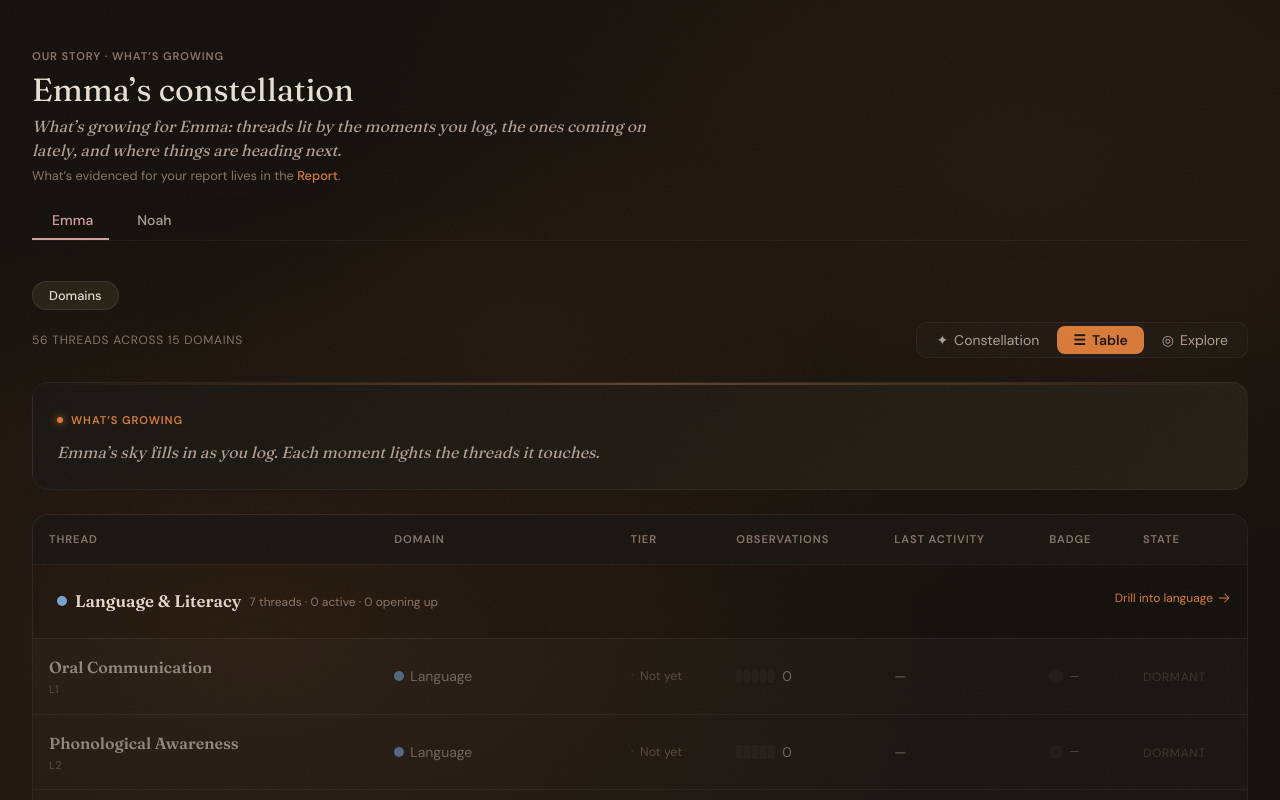
Scenario: ConstellationRoute › view toggle › switches between table / constellation / explore
The width and height of the screenshot is (1280, 800).
Expected: the element named "View mode" is shown, [916, 322, 1248, 358]
Click the radio button labelled "✦ Constellation". click: (988, 340)
box: [920, 326, 1055, 354]
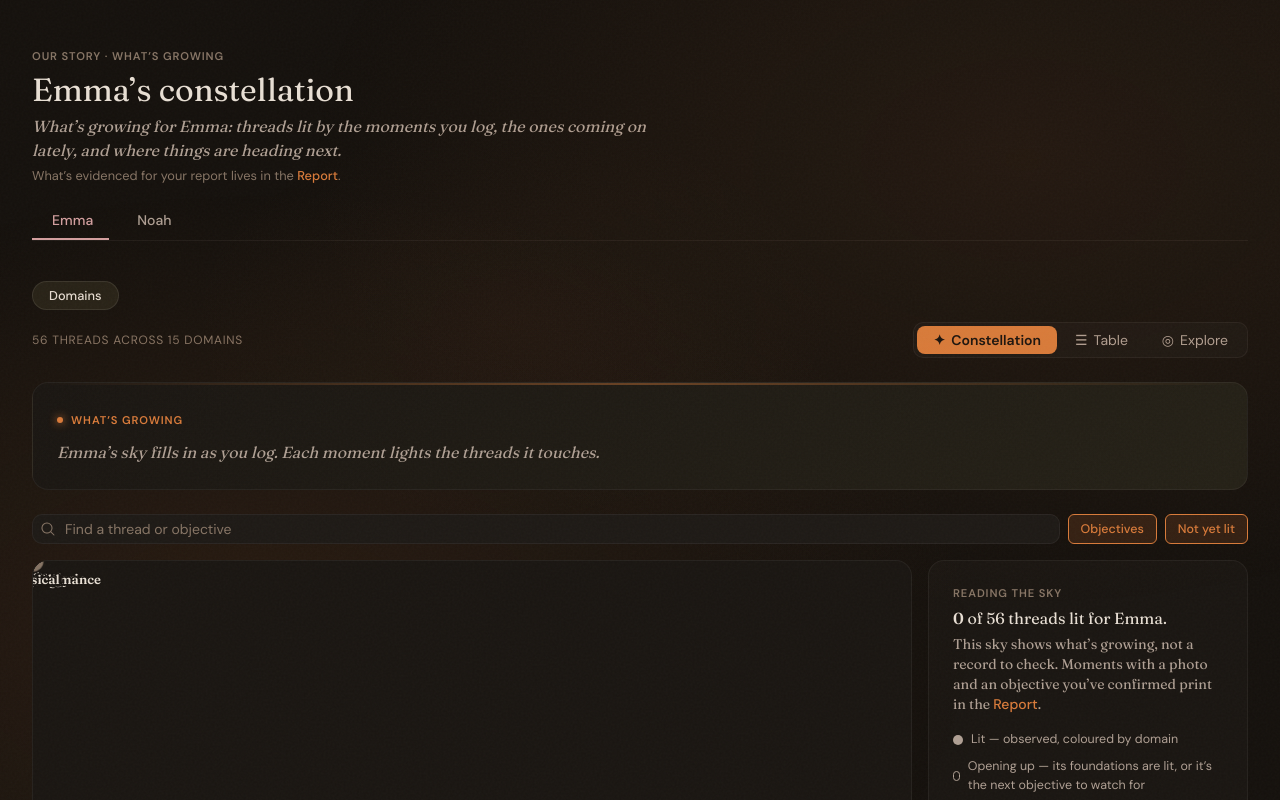
Expected: the radio button labelled "✦ Constellation" is checked, [918, 326, 1057, 354]
Click the radio button labelled "◎ Explore". click: (1195, 340)
box: [1146, 326, 1244, 354]
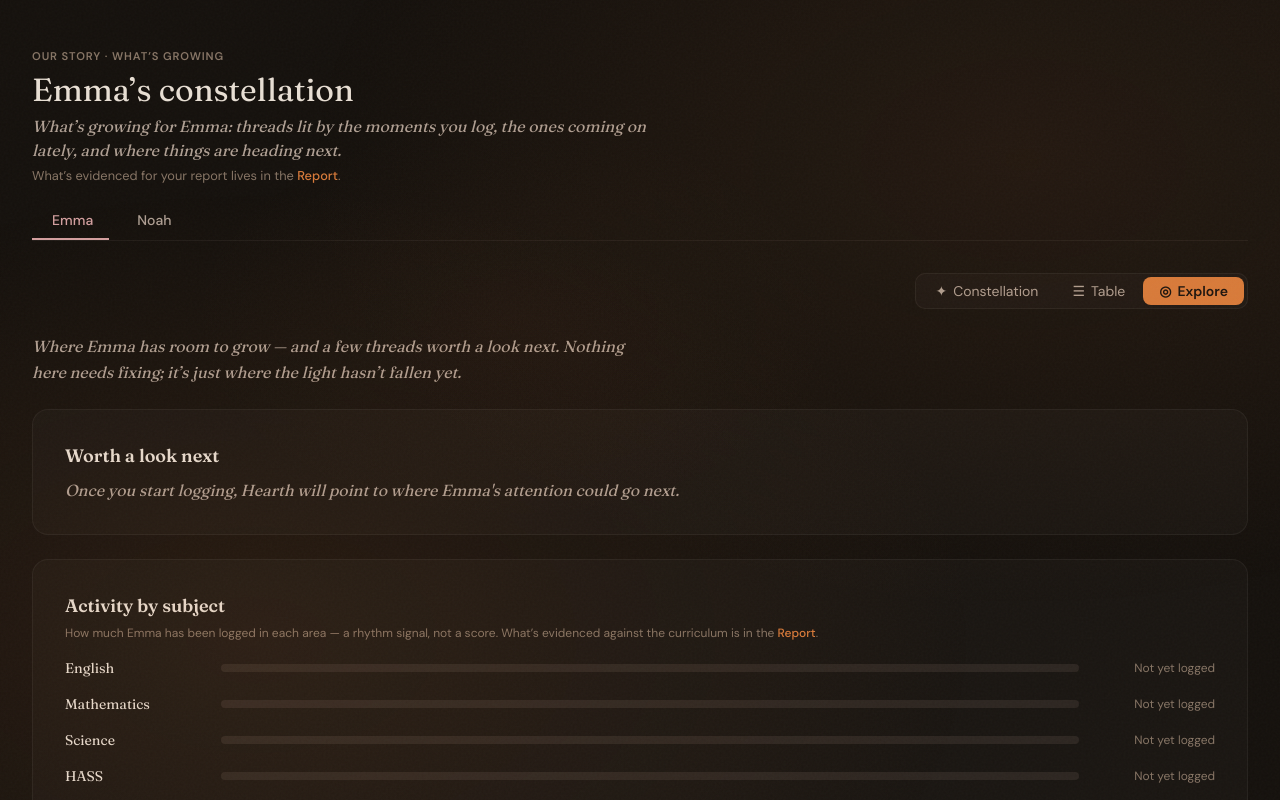
Expected: the radio button labelled "◎ Explore" is checked, [1143, 277, 1244, 305]
